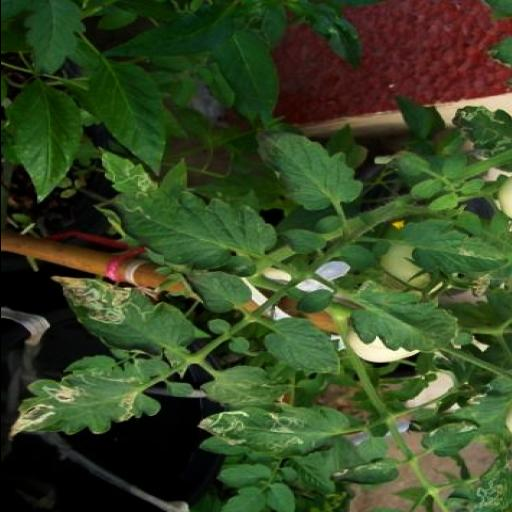Leaf Miner: (2, 352, 190, 444), (50, 275, 194, 361), (193, 404, 349, 458)
